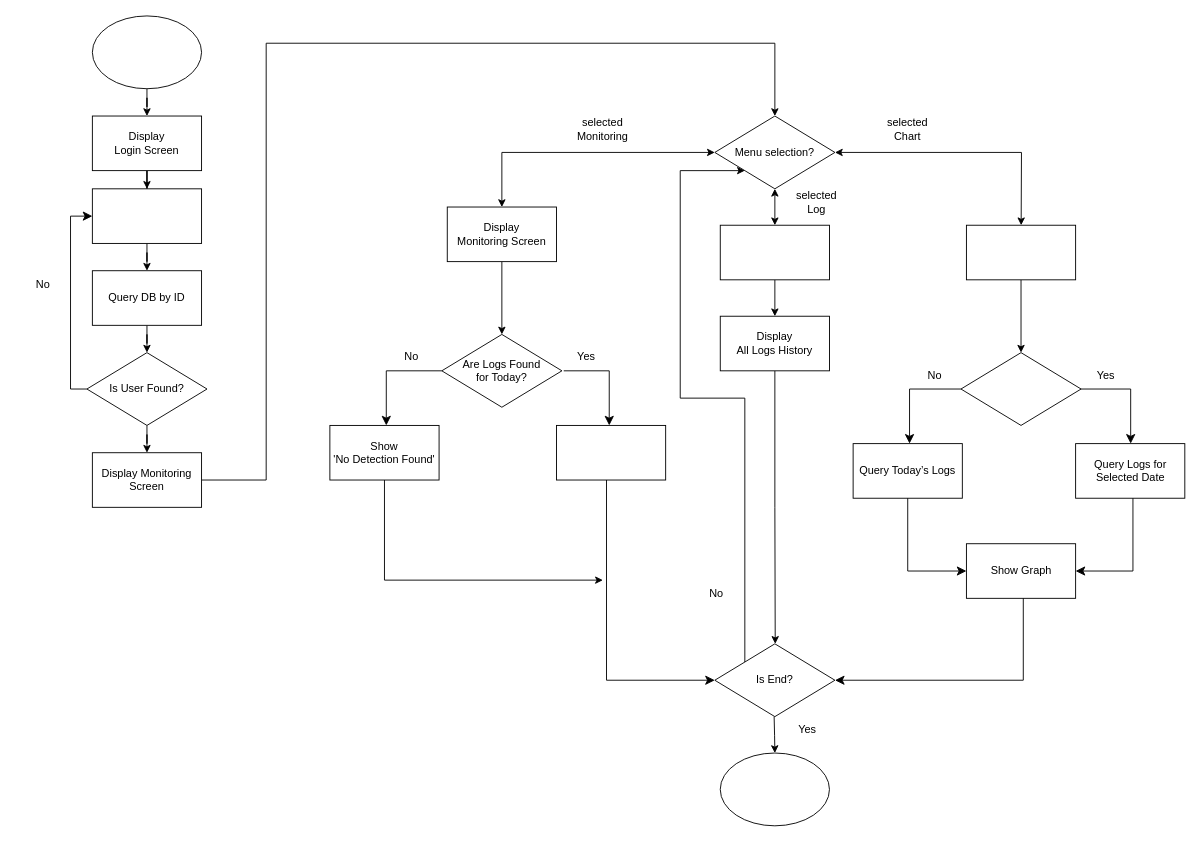
The diagram is 1200 pixels wide and 842 high, and some of its shapes have lost their labels. The shapes that lost their labels are listed below. From the top down, each one's centre as x and y in pixels, then its label:
At [146,52]: "Start (Launch App)".
At [146,215]: "Login".
At [774,252]: "Display Log Screen".
At [1021,252]: "Display chart Screen".
At [1020,388]: "Is a Date Selected?".
At [611,452]: "Display Logs & Video".
At [774,789]: "End".
